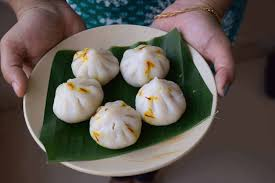modak: (133, 80, 191, 123), (95, 103, 141, 151), (64, 47, 120, 81), (54, 81, 100, 122), (121, 43, 164, 82)
